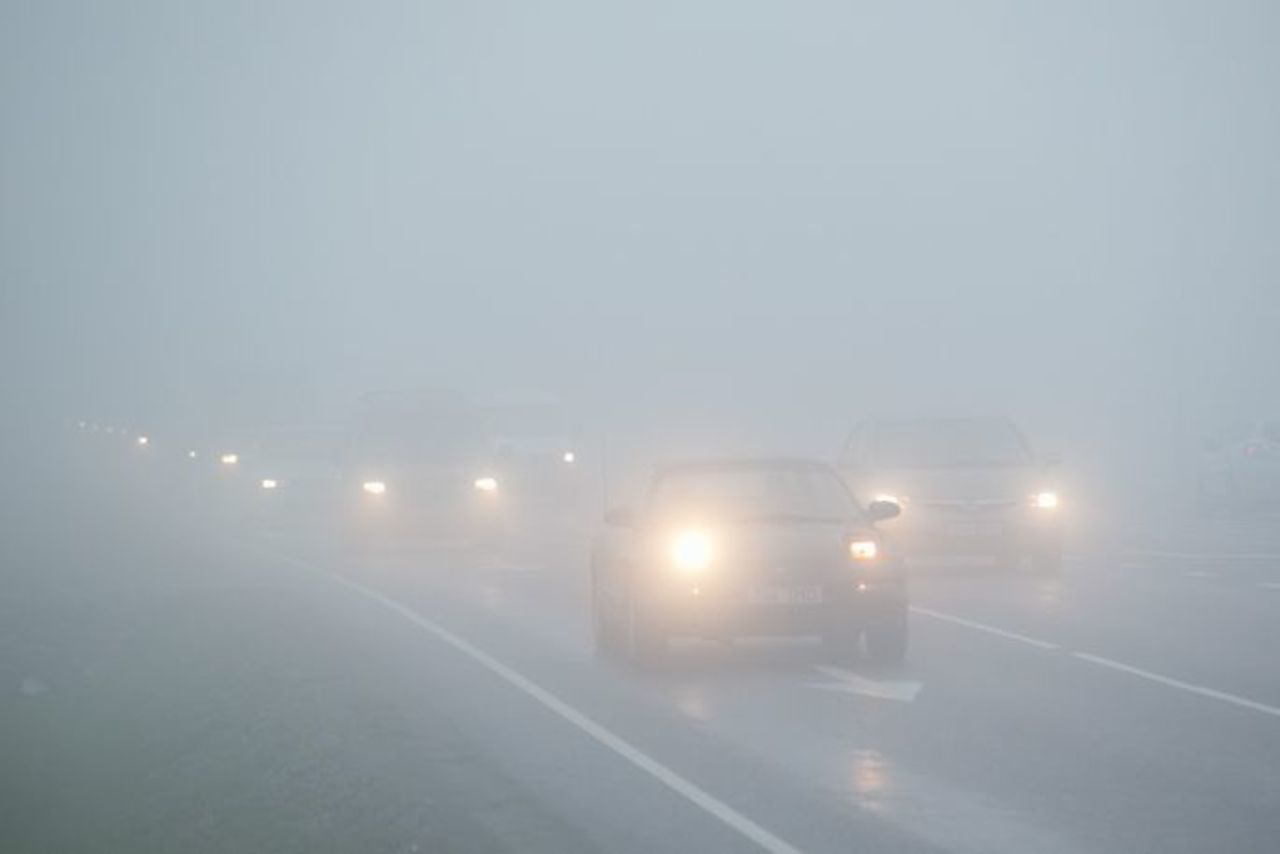car: (598, 460, 902, 678), (832, 411, 1057, 580), (342, 389, 504, 542), (249, 417, 358, 521), (488, 382, 576, 497), (206, 411, 248, 483)
